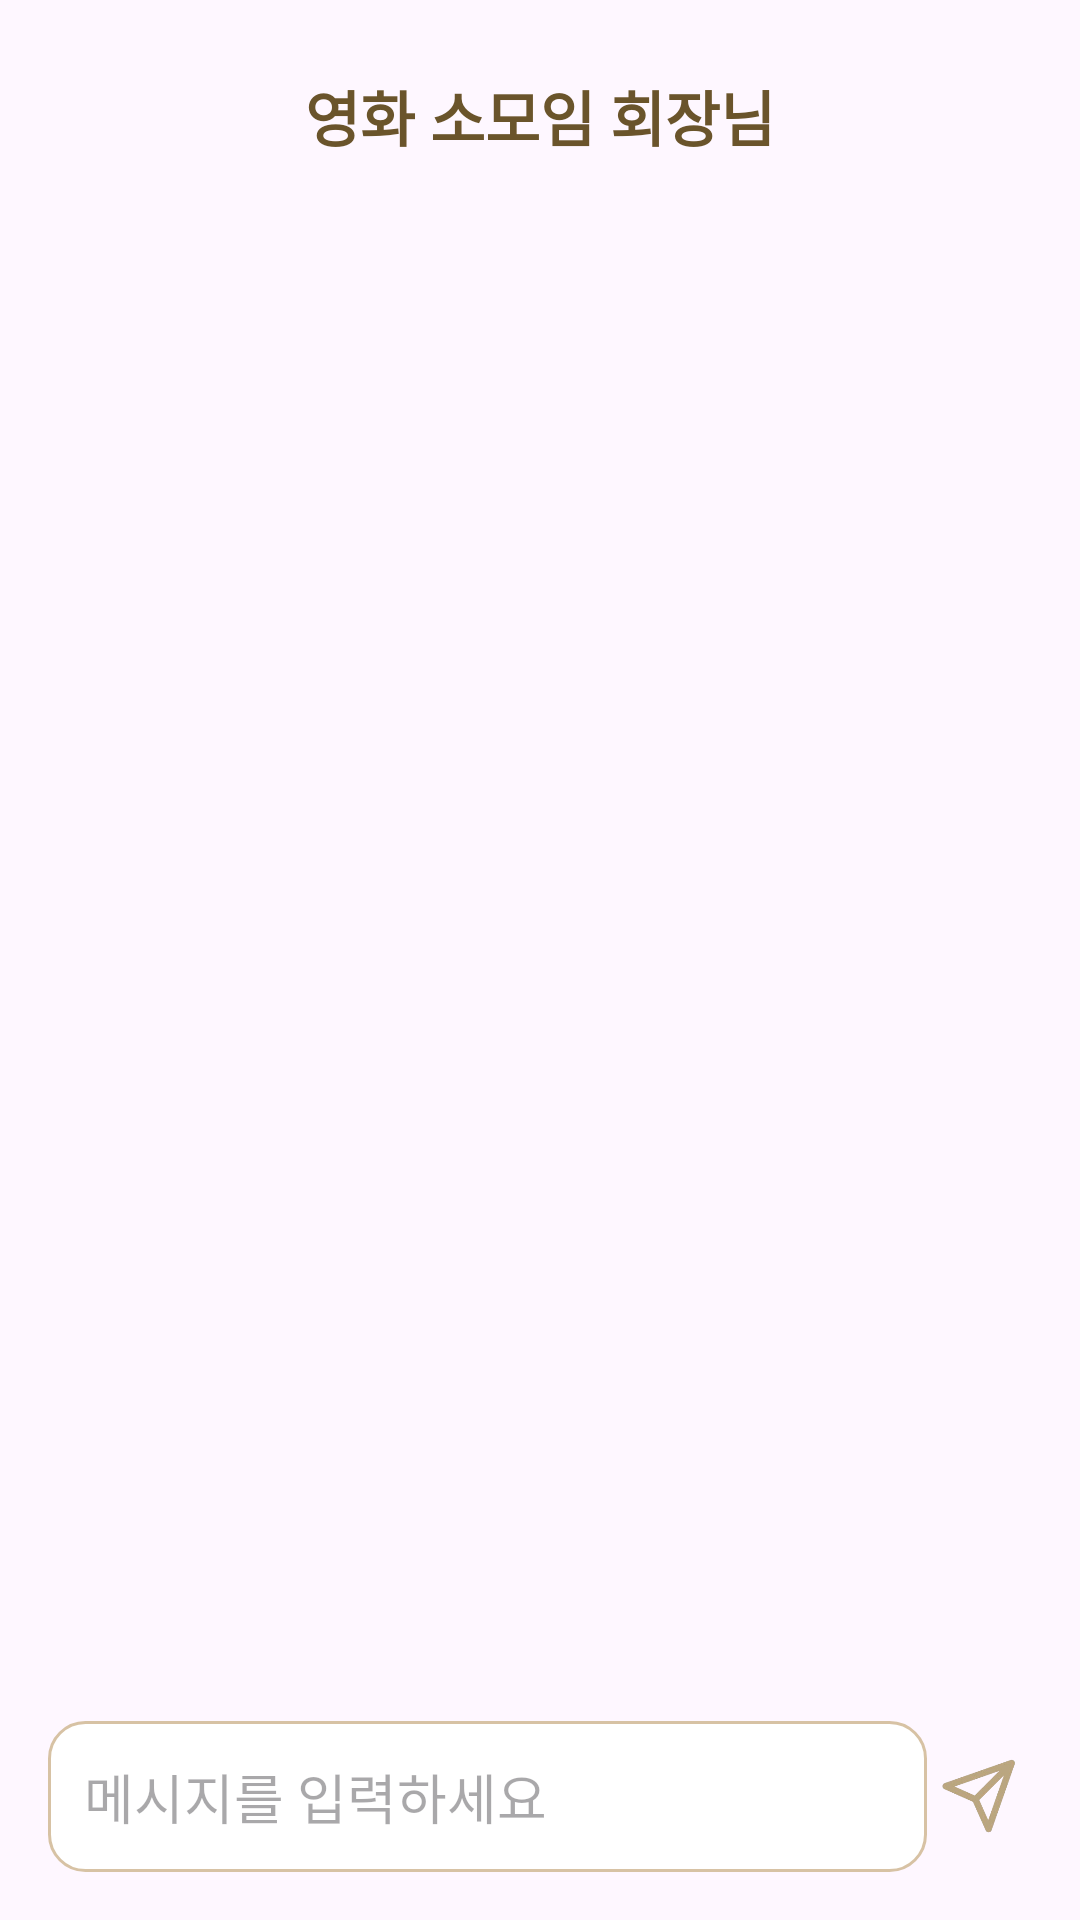

Icons on this 1080w x 1920h Android screen, each with its box as (x1, y1, x2, y2):
Send: (942, 1760, 1015, 1832)
